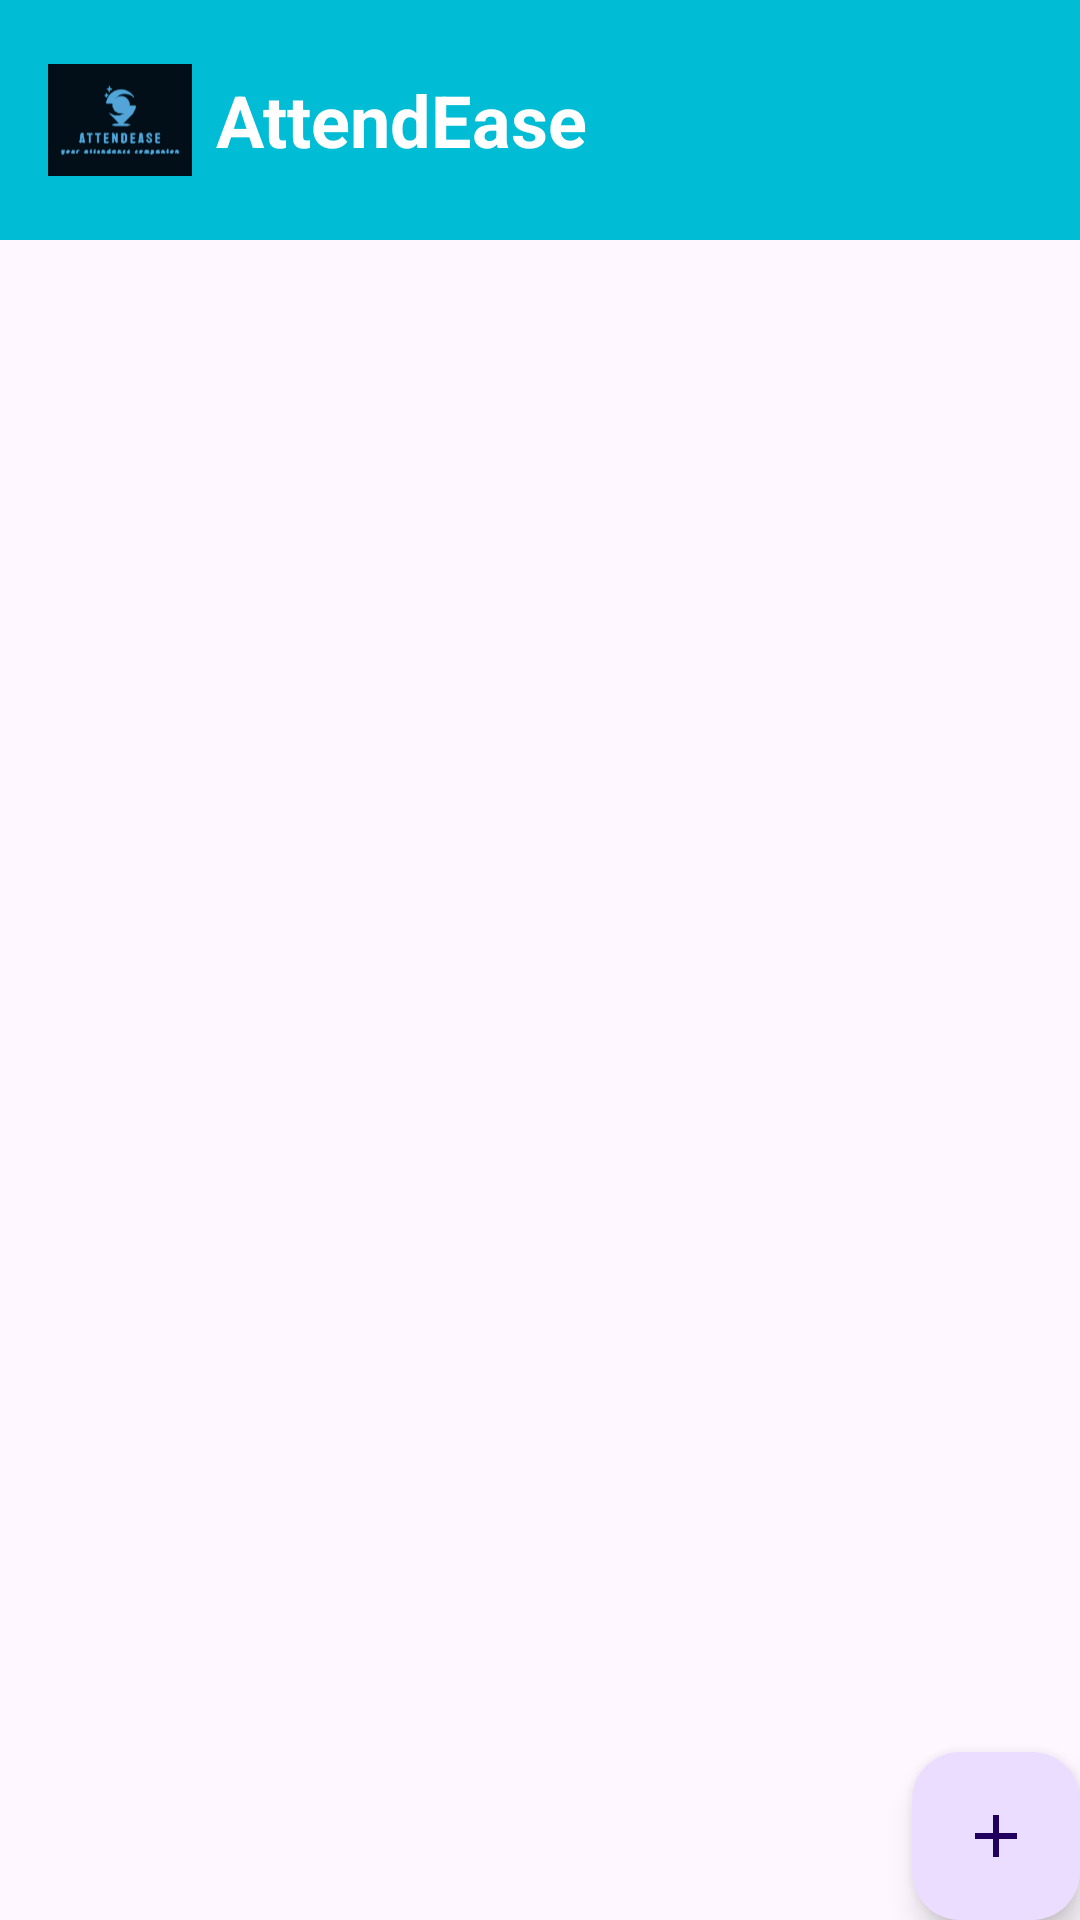

Icons on this 1080x1920 Android screen, each with its box as bbox(x1, y1, x2, y2):
Add Course: bbox(912, 1752, 1080, 1920)
